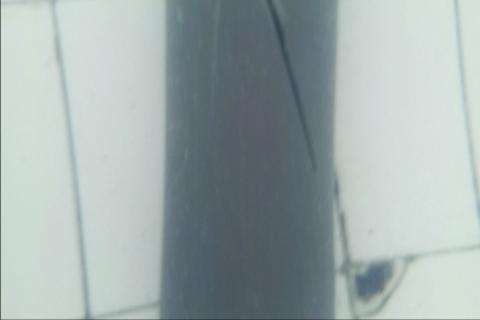keretakan: (263, 0, 319, 178)
